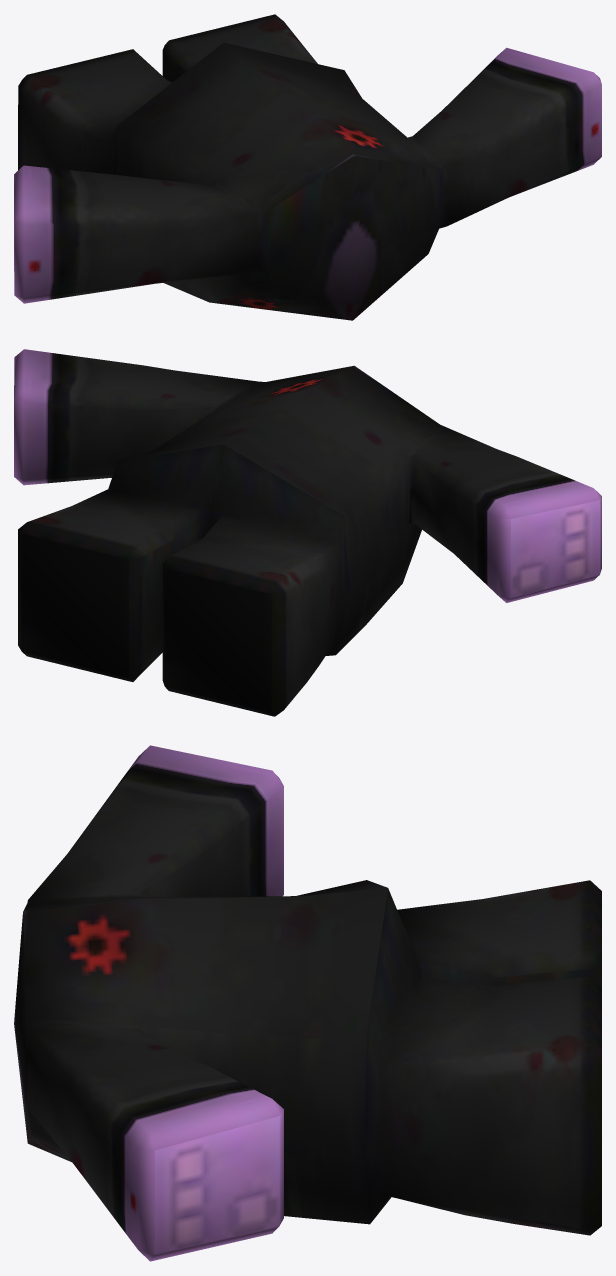
Rendered from Zombie_Normal_H_Body_74b1fa8b__Zombie_Normal_Purple_0bff28be_c1f257.obj.
The picture shows the model from 3 angles, top to bottom: view 1: azimuth 30°, elevation 25°; view 2: azimuth 150°, elevation 25°; view 3: azimuth 270°, elevation 25°; orthographic projection. The views are drawn at different scales.
Size of the model in its own units: 1.41 by 0.504 by 0.882.
1 material, 1 textured.
